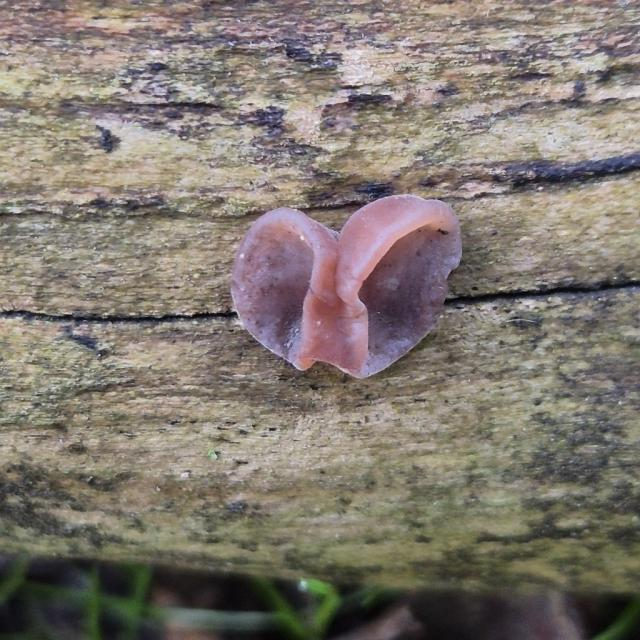Matang: (223, 186, 471, 386)
